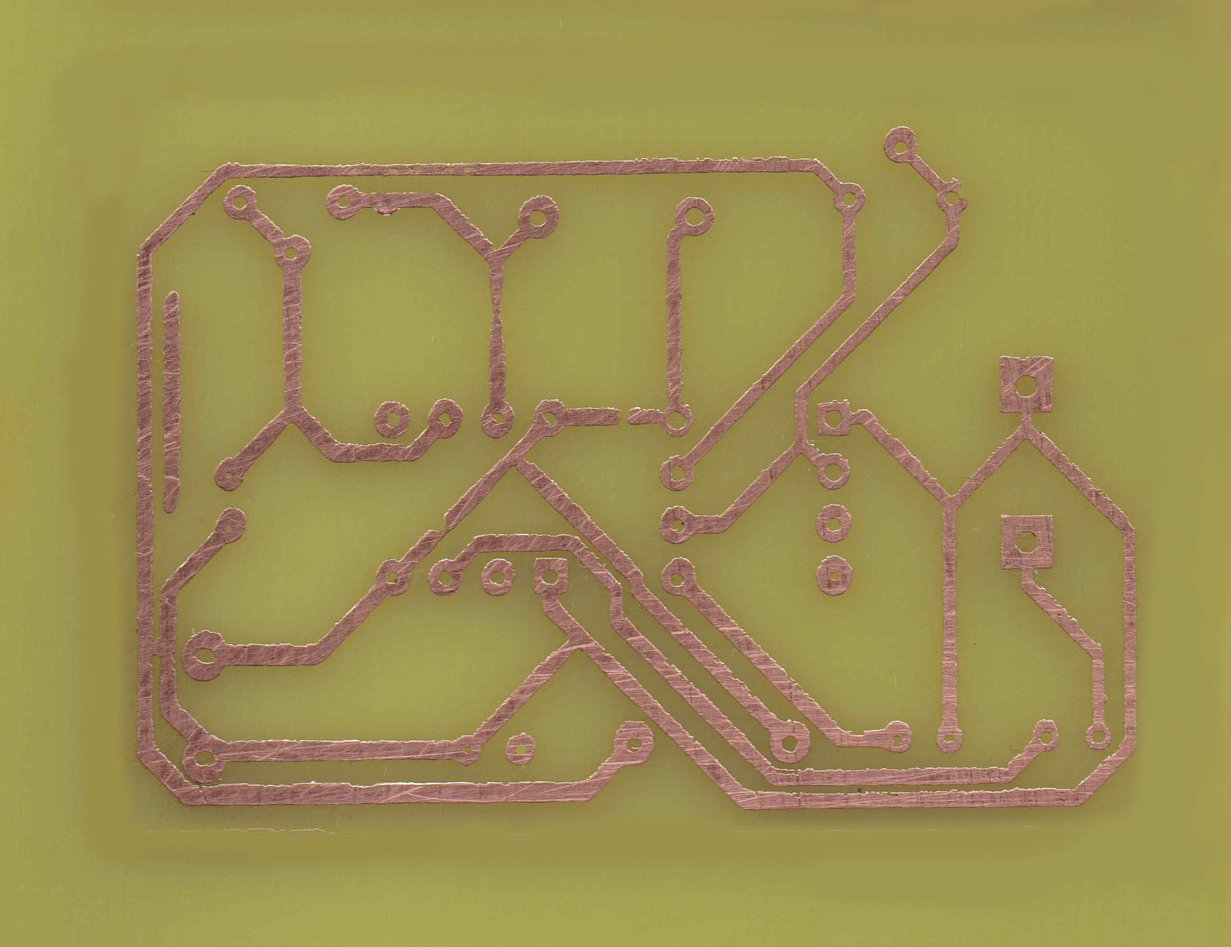missing_hole: (930, 170, 970, 217)
mouse_bite: (769, 761, 814, 786)
open_circuit: (610, 400, 640, 429)
short: (134, 634, 177, 662)
spur: (368, 186, 401, 220), (423, 511, 451, 538)
spurious_copper: (158, 288, 185, 519)
